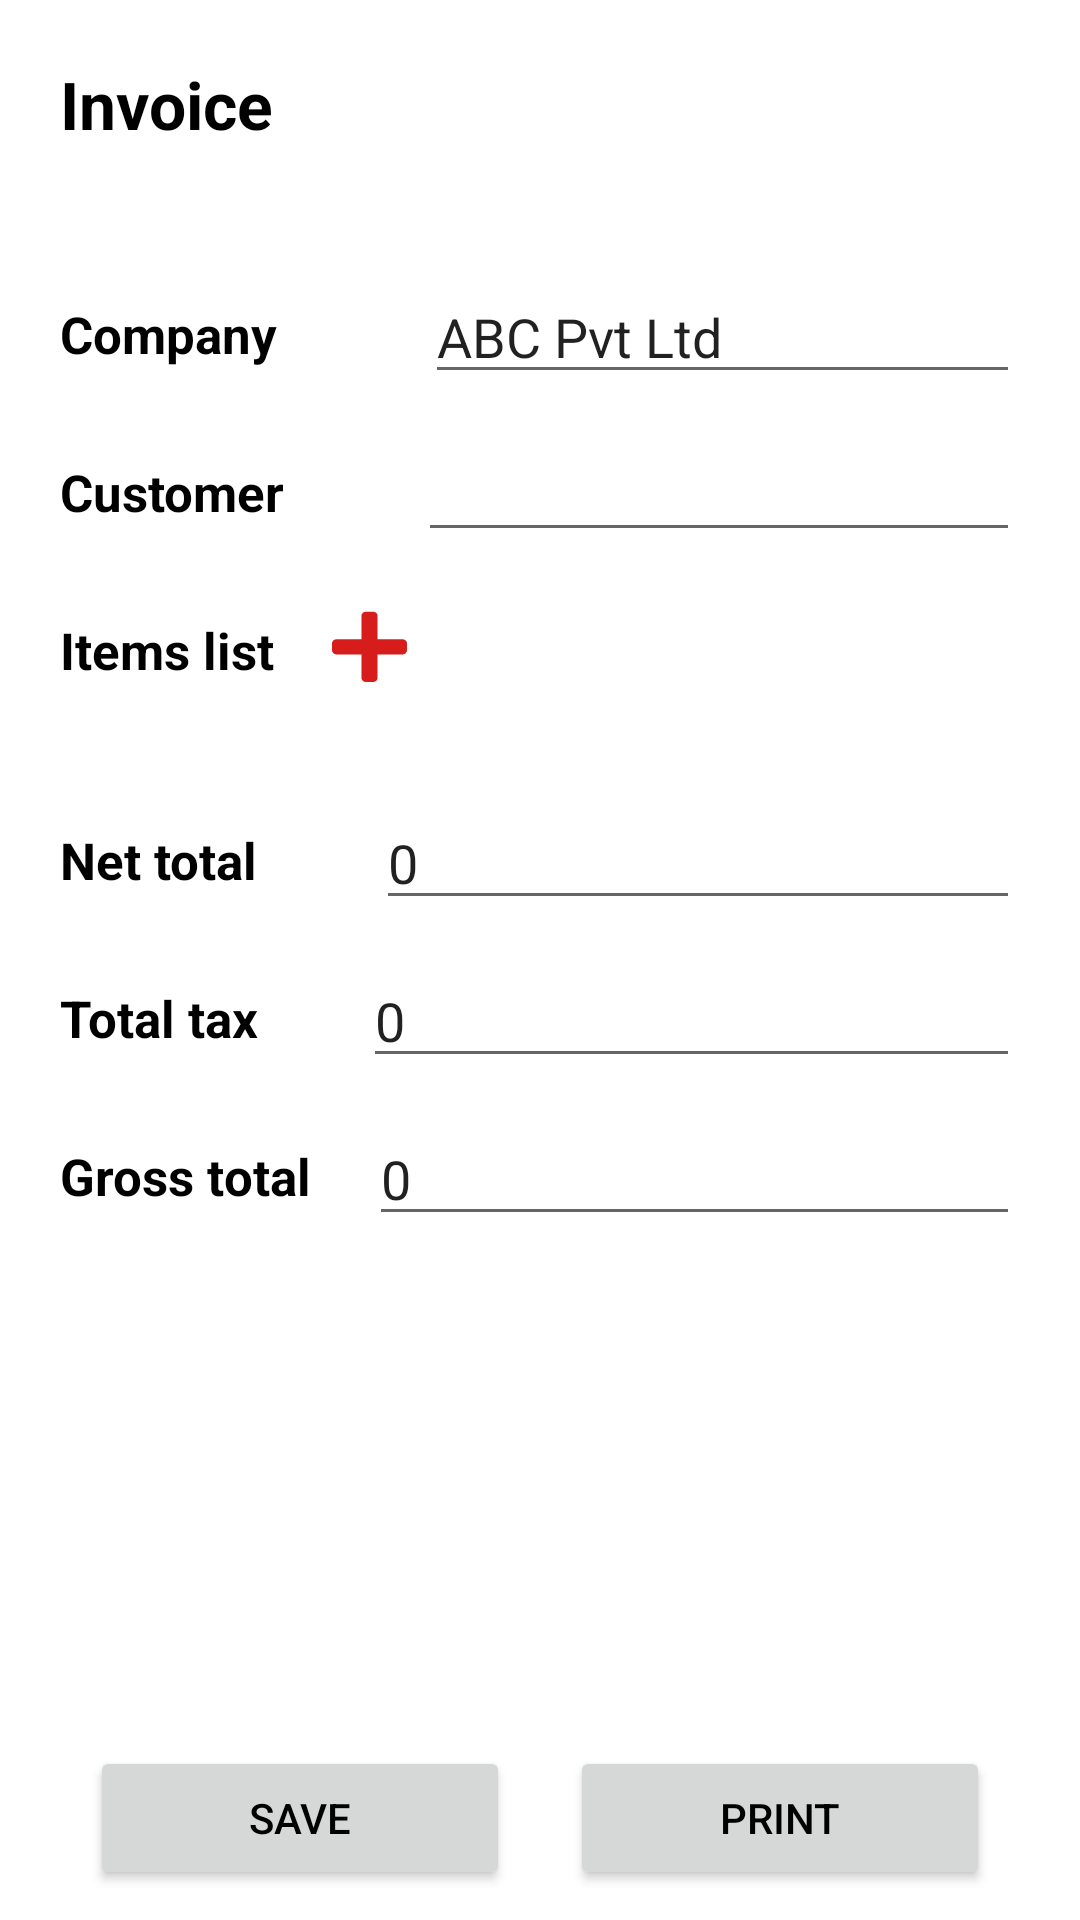

Point at icon controls on the screen. Image size 1080x1920, points as (x=x, y=y).
add: (x=369, y=646)
